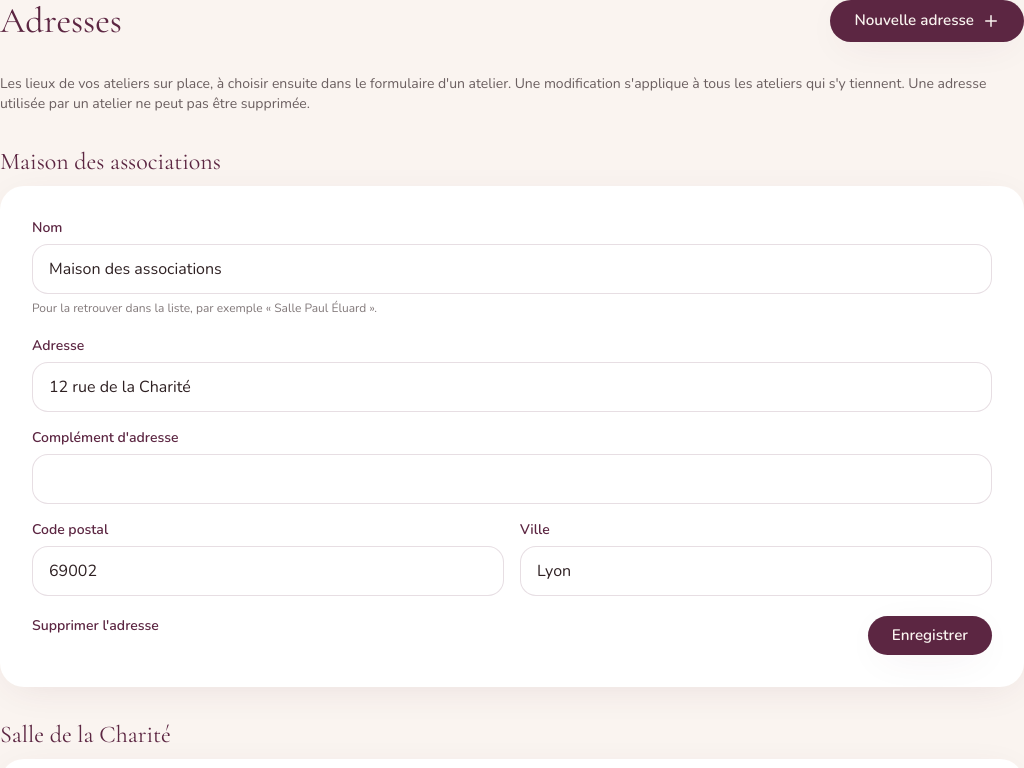
Scenario: AddressesEditor › adds a new address to the list, in name order
Click the button "Nouvelle adresse".
click(927, 21)  # box [830,0,1023,42]
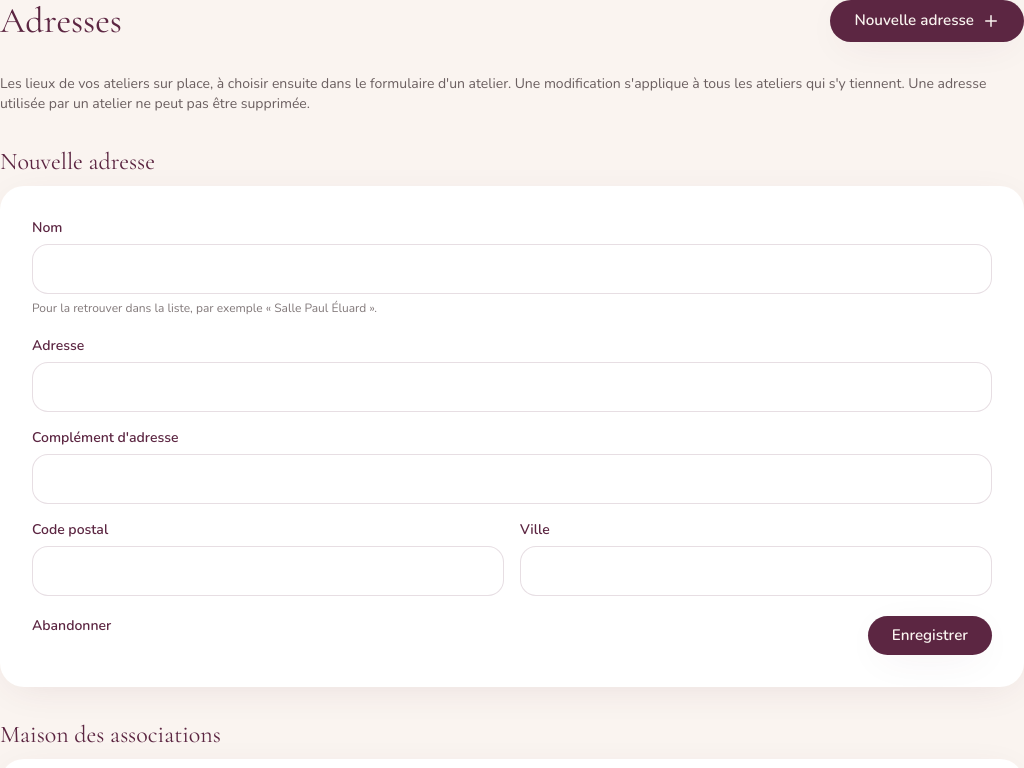
Type "Centre social" into the field labelled "Nom".
click(512, 269); type("Centre social")  # box [32,244,992,294]
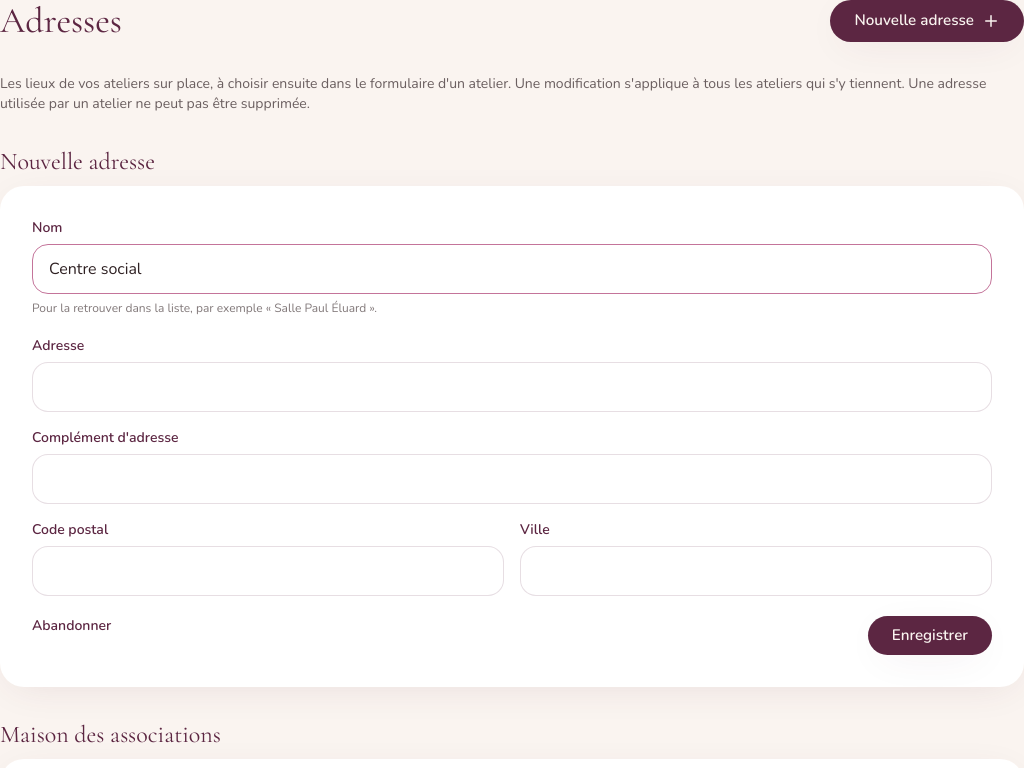
Type "Lyon" into the field labelled "Ville".
click(756, 571); type("Lyon")  # box [520,546,992,596]
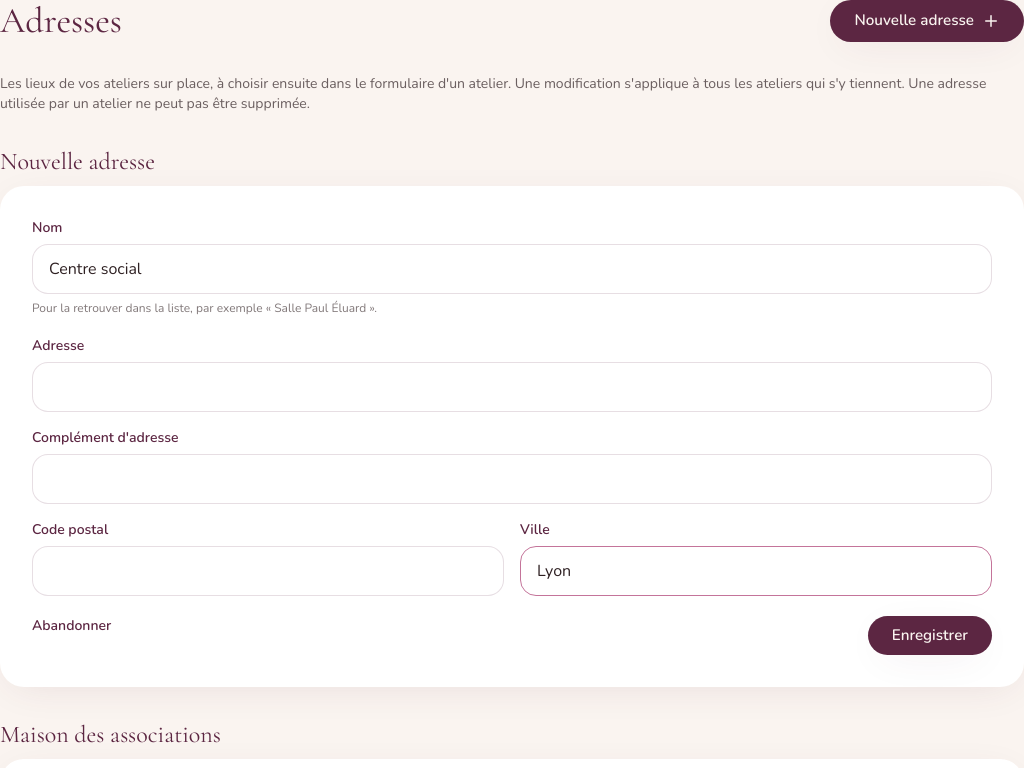
Click the button "Enregistrer".
click(930, 636)  # box [868,616,992,655]
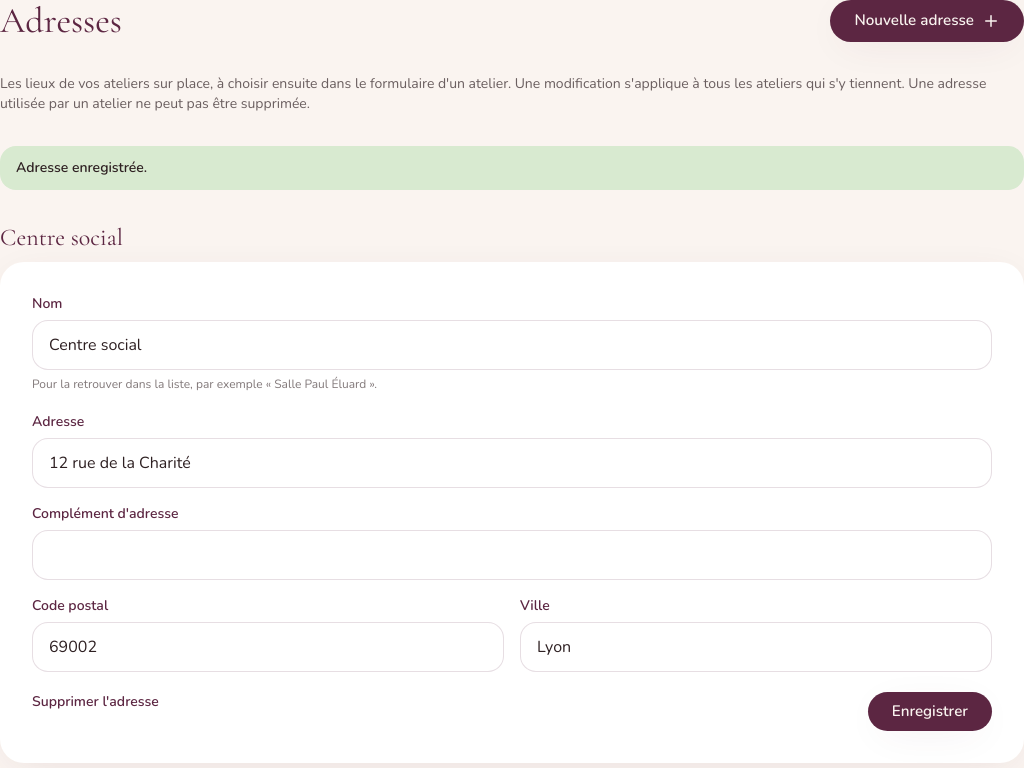
Expected: the text "Adresse enregistrée." is shown, [0,146,1023,190]
